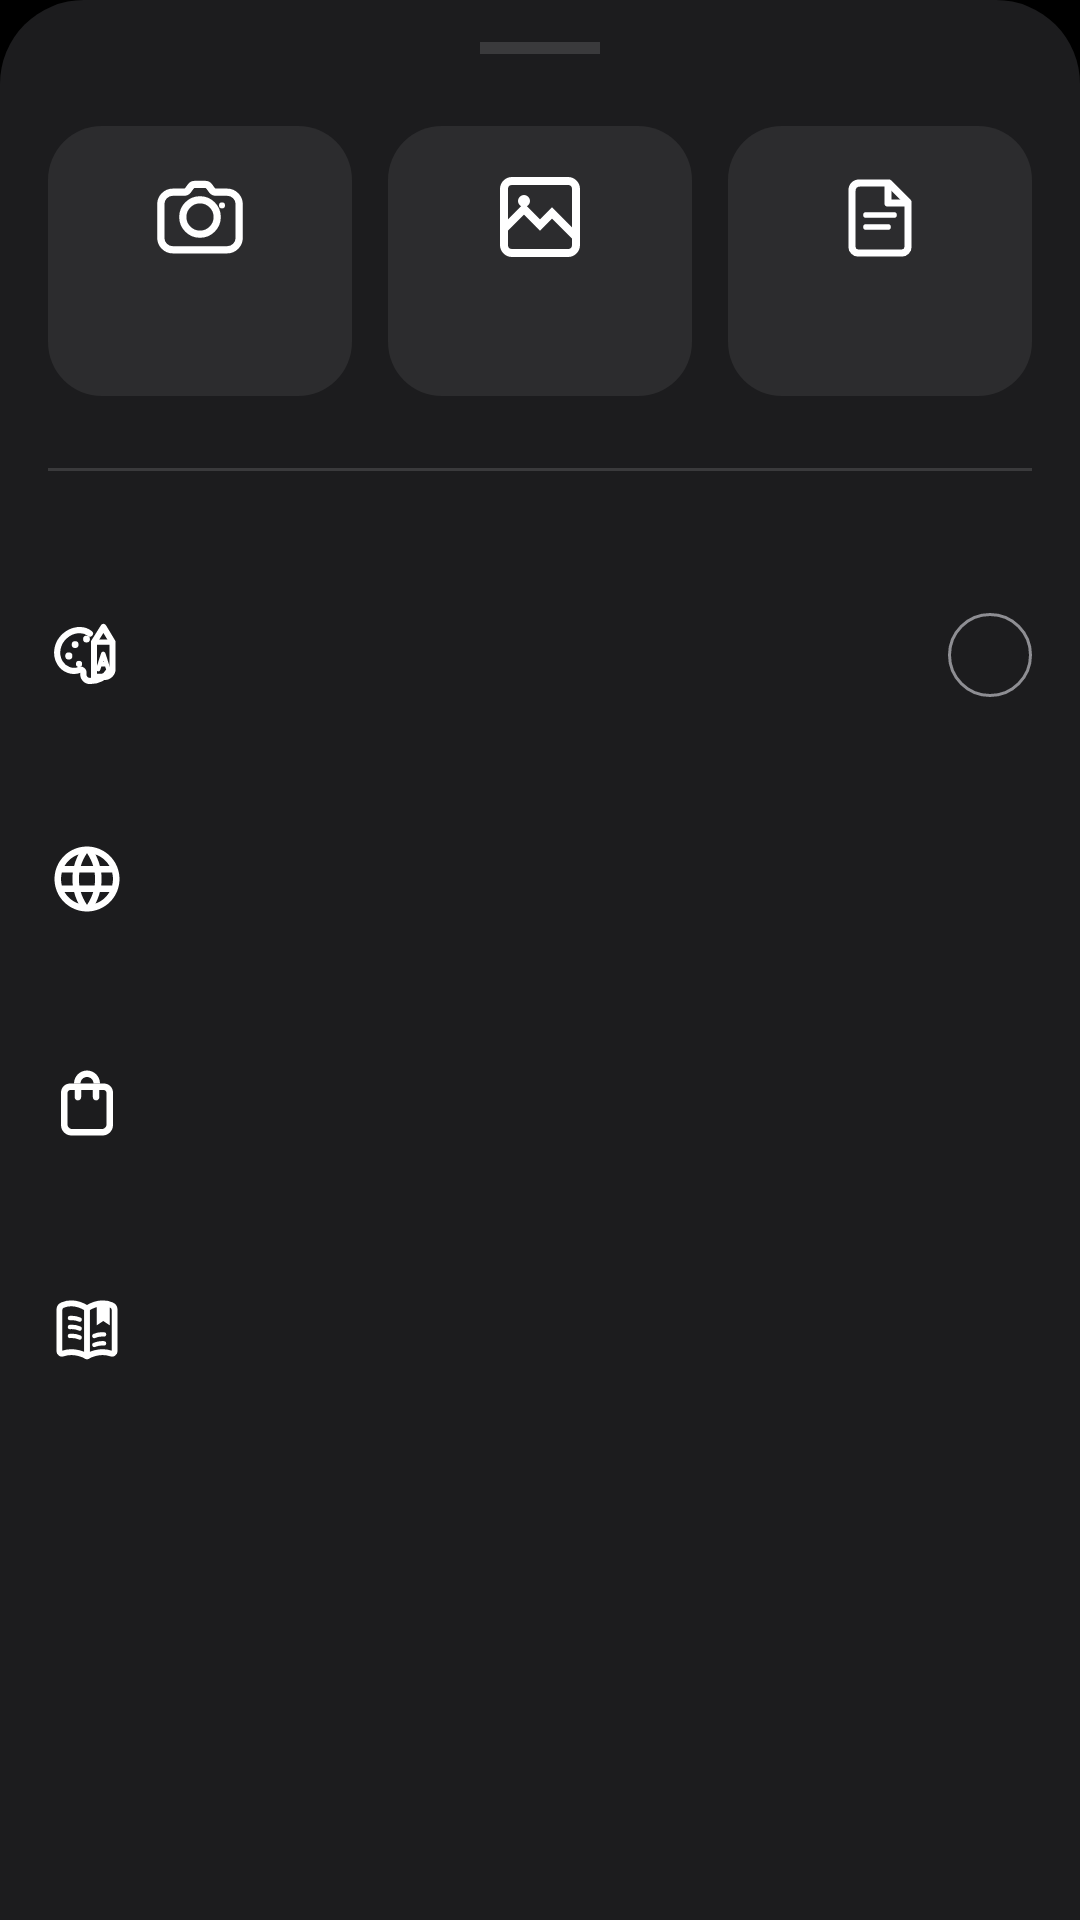

Named icons in this screenshot (1080w x 1920h) and their centers, point (x, y):
book: point (87, 1330)
camera: point (200, 217)
file: point (880, 218)
globe: point (87, 879)
palette: point (85, 653)
photo: point (540, 217)
shopping: point (87, 1103)
